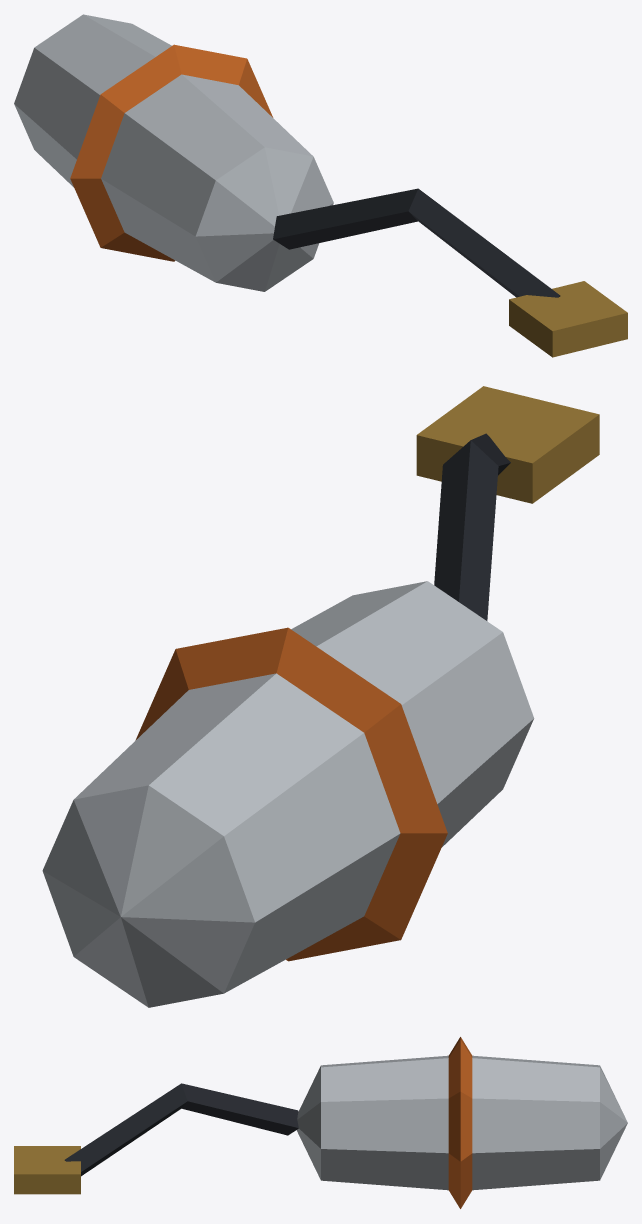
Rendered from implant-device.glb.
The picture shows the model from 3 angles, top to bottom: view 1: azimuth 30°, elevation 25°; view 2: azimuth 150°, elevation 25°; view 3: azimuth 270°, elevation 25°; orthographic projection. The views are drawn at different scales.
Parts seen in each view (by area): view 1: m; view 2: m; view 3: m.
Part boxes in pixels (x1=…): m: x1=14, y1=14, x2=627, y2=357; m: x1=42, y1=386, x2=599, y2=1007; m: x1=14, y1=1037, x2=627, y2=1208.
Size of the model in its own units: 0.0309 by 0.024 by 0.08.
